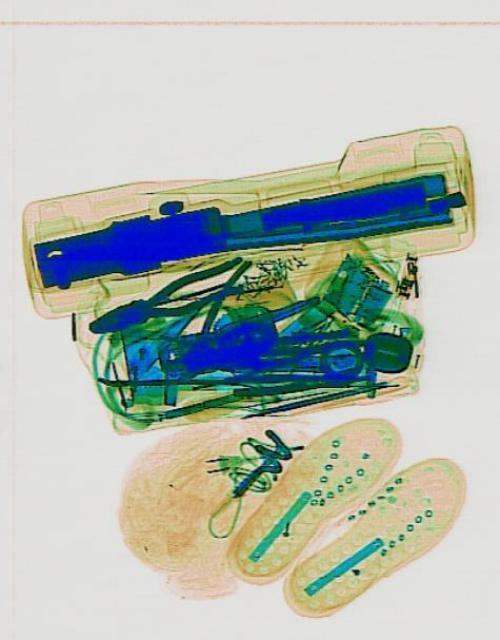Pliers: (149, 284, 369, 396), (82, 252, 249, 344)
